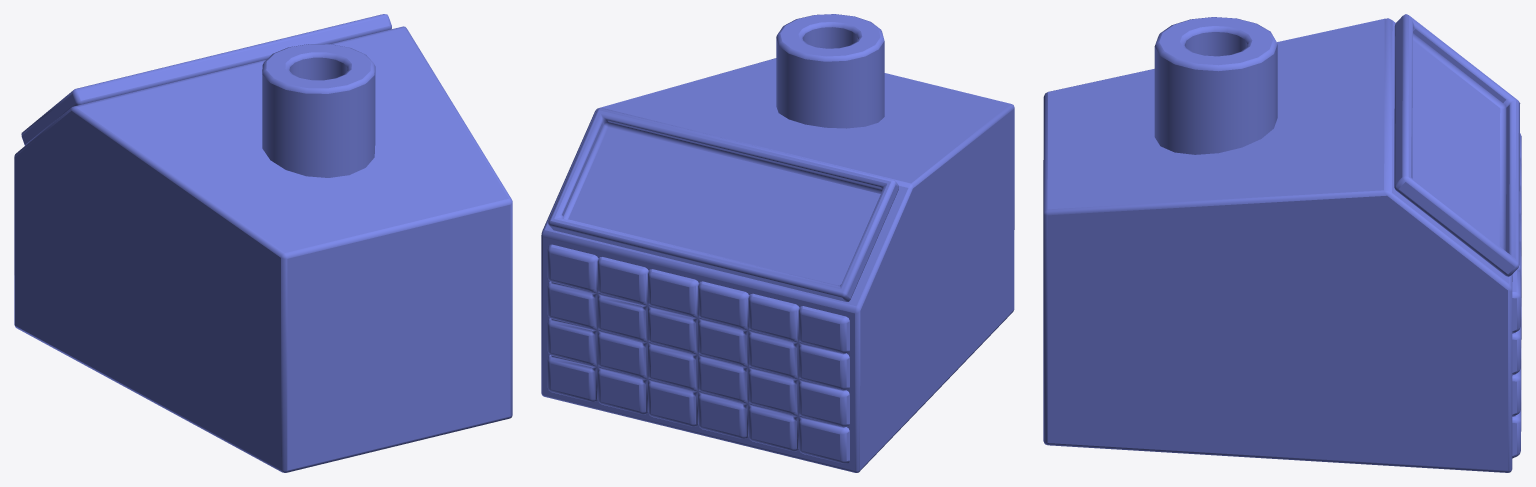
File: dna_analyzer.glb
3 views of the same model, side by side, from view 1: azimuth 30°, elevation 25°; view 2: azimuth 150°, elevation 25°; view 3: azimuth 270°, elevation 25° (orthographic). The views are drawn at different scales.
Parts seen in each view (by area): view 1: Cube.071; view 2: Cube.071; view 3: Cube.071.
Part boxes in pixels (box(x1,y1,x2,y2)): Cube.071: box(14, 14, 512, 472); Cube.071: box(541, 14, 1014, 472); Cube.071: box(1043, 14, 1521, 472).
Size of the model in its own units: 0.8604 by 0.7867 by 0.9872.
